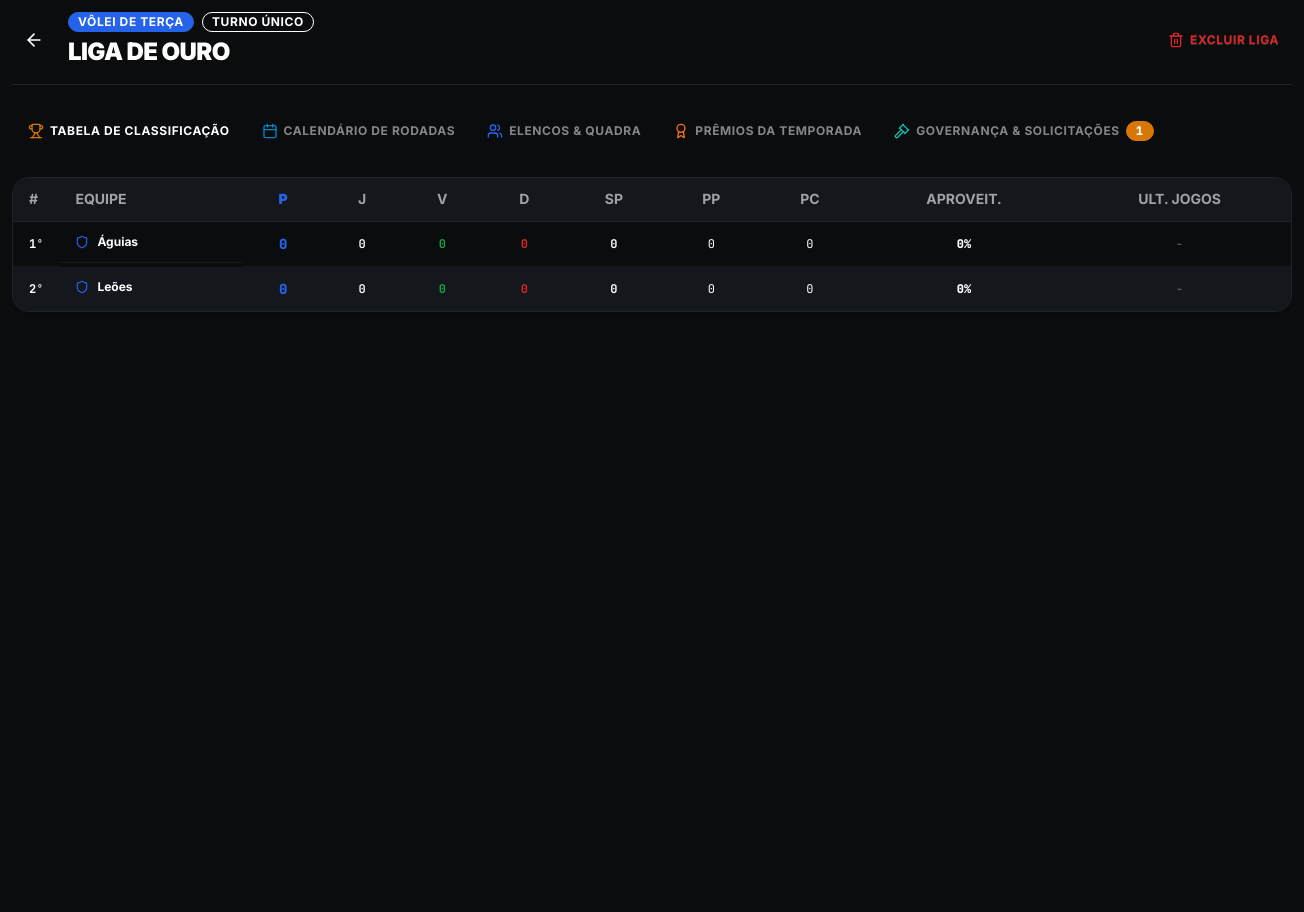
Test: ChampionshipDetailView › mostra o estado real de cada rodada: agendada, em andamento e realizada
Click the button "Calendário de Rodadas": (358, 131) top-left (246, 109), bottom-right (471, 153)
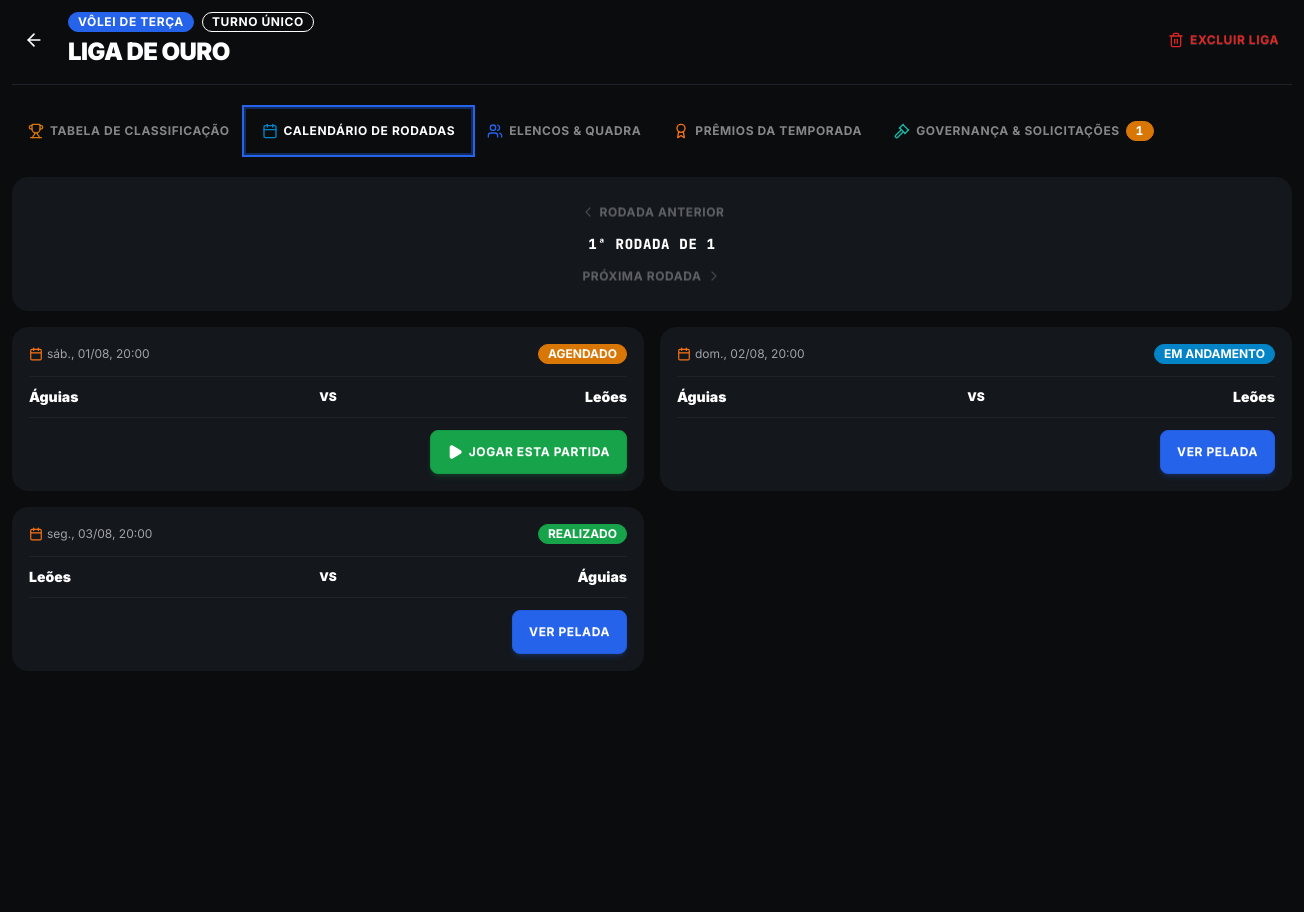
Expected: the text "Agendado" is shown once, top-left (538, 344), bottom-right (627, 364)
Expected: the text "Em andamento" is shown once, top-left (1154, 344), bottom-right (1275, 364)
Expected: the text "Realizado" is shown once, top-left (538, 524), bottom-right (627, 544)
